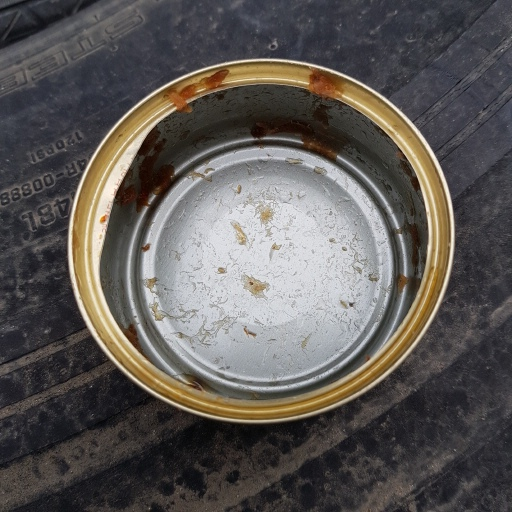Metal_1: (65, 59, 459, 427)
